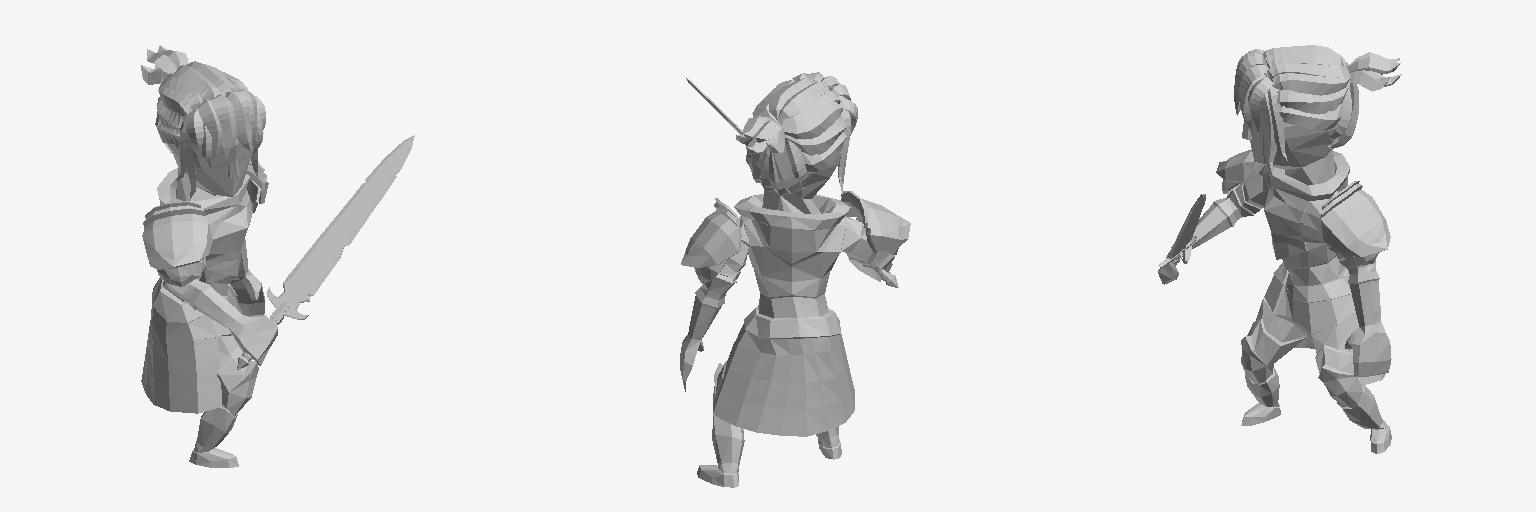
3 renders of one model, left to right at view 1: azimuth 30°, elevation 25°; view 2: azimuth 150°, elevation 25°; view 3: azimuth 270°, elevation 25°, orthographic.
Parts seen in each view (by area): view 1: Warrior.002__ncl1_29.005, Face__ncl1_29.002, Warrior_Sword_Cylinder.001, Shoulder.R__ncl1_29.001, Shoulder.L__ncl1_29.000; view 2: Warrior.002__ncl1_29.005, Face__ncl1_29.002, Shoulder.L__ncl1_29.000, Shoulder.R__ncl1_29.001, Warrior_Sword_Cylinder.001; view 3: Warrior.002__ncl1_29.005, Face__ncl1_29.002, Shoulder.L__ncl1_29.000, Shoulder.R__ncl1_29.001, Warrior_Sword_Cylinder.001.
Boxes of the visible parts, <box> form: Warrior.002__ncl1_29.005: <box>141,116,277,467</box>; Face__ncl1_29.002: <box>141,45,265,200</box>; Warrior_Sword_Cylinder.001: <box>237,135,414,369</box>; Shoulder.R__ncl1_29.001: <box>142,201,212,286</box>; Shoulder.L__ncl1_29.000: <box>246,159,268,212</box>; Warrior.002__ncl1_29.005: <box>680,150,894,487</box>; Face__ncl1_29.002: <box>736,72,857,194</box>; Shoulder.L__ncl1_29.000: <box>681,198,741,283</box>; Shoulder.R__ncl1_29.001: <box>841,191,910,254</box>; Warrior_Sword_Cylinder.001: <box>686,78,898,287</box>; Warrior.002__ncl1_29.005: <box>1158,109,1391,453</box>; Face__ncl1_29.002: <box>1234,45,1401,175</box>; Shoulder.L__ncl1_29.000: <box>1320,181,1390,265</box>; Shoulder.R__ncl1_29.001: <box>1216,149,1263,194</box>; Warrior_Sword_Cylinder.001: <box>1159,194,1205,267</box>.
Bounding box in the file's own units: 1.87 × 2.79 × 1.65.